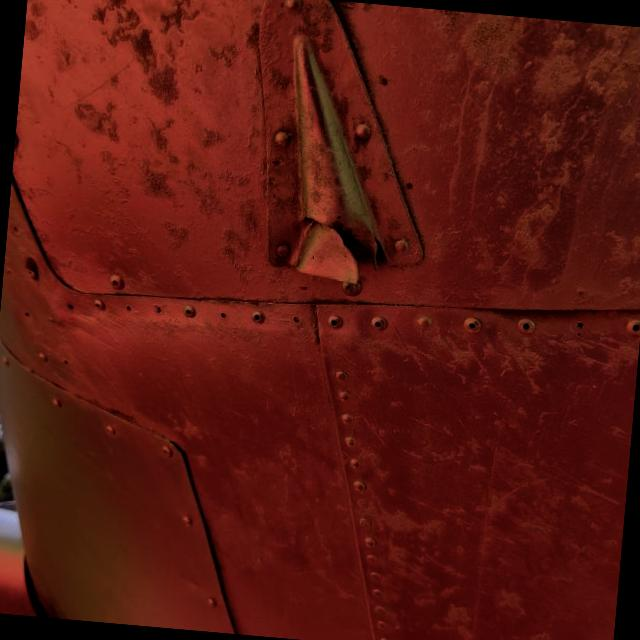Missing Fastener: (568, 316, 590, 336), (58, 298, 78, 318), (149, 300, 167, 322), (116, 299, 134, 319), (211, 306, 229, 324), (14, 303, 31, 321), (288, 314, 306, 328)
